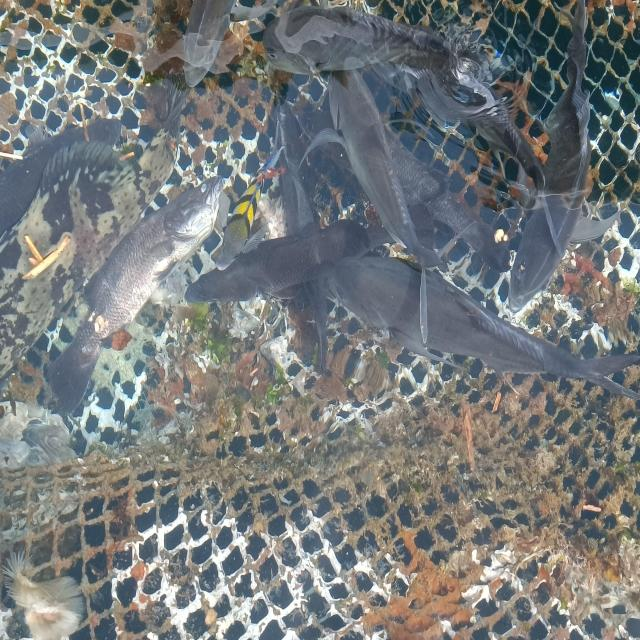ikan: (38, 157, 216, 391), (492, 2, 626, 312), (398, 257, 640, 395), (187, 212, 366, 354), (308, 59, 414, 262), (173, 1, 288, 90), (213, 156, 276, 264)
